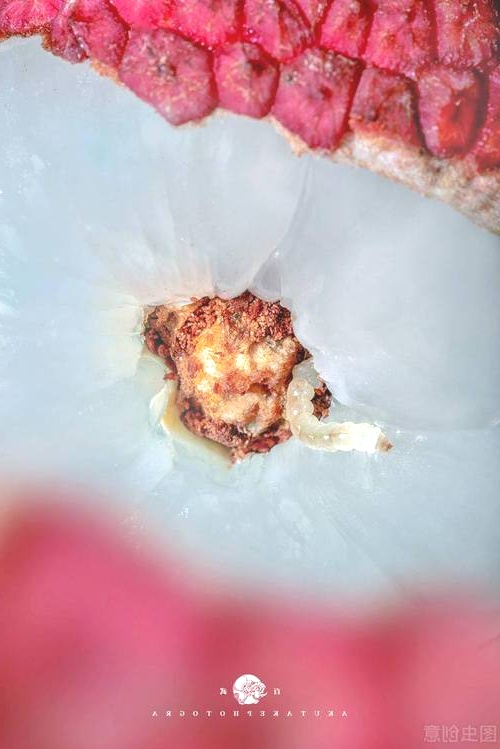Borer: (282, 350, 371, 472)
